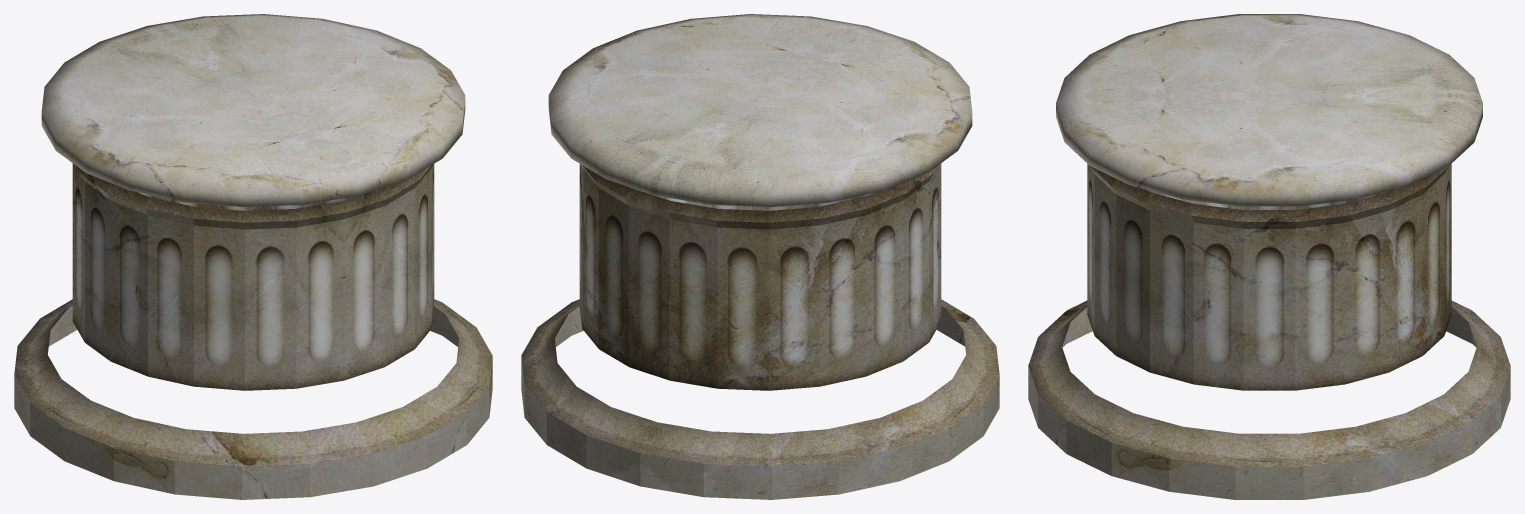
File: pedestal_mace_1.dae
3 views of the same model, side by side, from view 1: azimuth 30°, elevation 25°; view 2: azimuth 150°, elevation 25°; view 3: azimuth 270°, elevation 25° (orthographic).
Visible parts, largest first — view 1: Cube; view 2: Cube; view 3: Cube.
Boxes of the visible parts, x1,y1,x2,y2 form: Cube: [14, 14, 492, 499]; Cube: [521, 14, 999, 499]; Cube: [1028, 14, 1510, 499].
Size of the model in its own units: 10.79 by 7.56 by 10.9.
